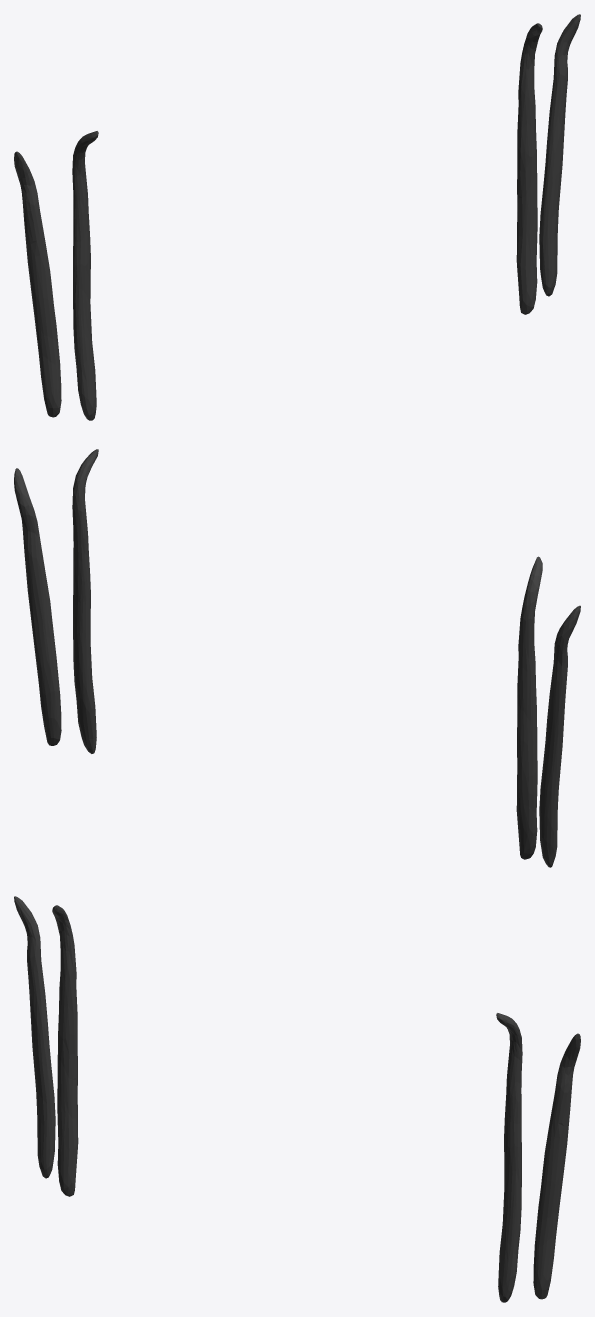
File: m_adductor_digit_II_et_V.glb
3 renders of one model, top to bottom at view 1: azimuth 30°, elevation 25°; view 2: azimuth 150°, elevation 25°; view 3: azimuth 330°, elevation 25°, orthographic.
Visible parts, largest first — view 1: m_adductor_digit_II_et_V; view 2: m_adductor_digit_II_et_V; view 3: m_adductor_digit_II_et_V.
Part boxes in pixels (x1,y1,x2,y2): m_adductor_digit_II_et_V: [14, 14, 580, 420]; m_adductor_digit_II_et_V: [14, 449, 580, 867]; m_adductor_digit_II_et_V: [14, 896, 580, 1302].
Bounding box in the file's own units: 0.0566 × 0.0284 × 0.00483.
1 material, 1 textured.
